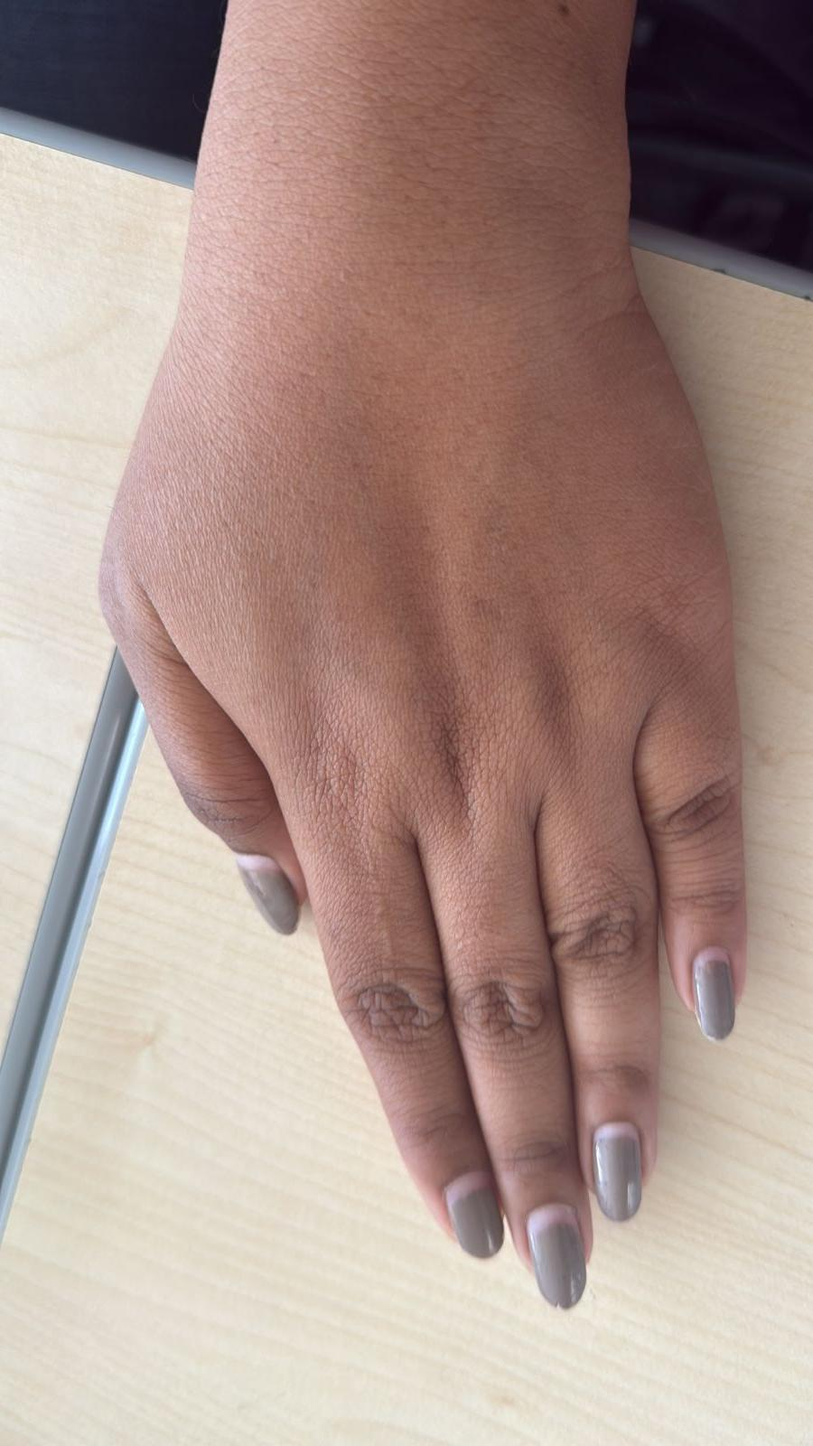Fingernail: (529, 1200, 586, 1310), (237, 854, 300, 936), (592, 1120, 642, 1222), (446, 1172, 504, 1258), (693, 946, 734, 1045)
